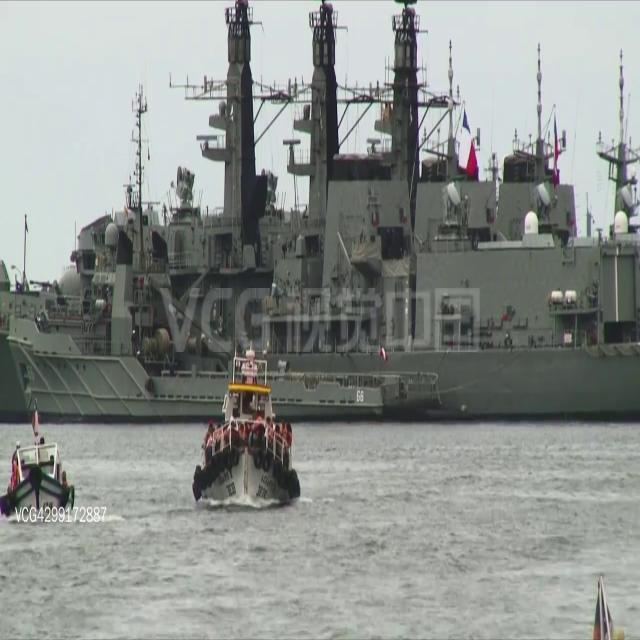houseboat: (193, 353, 300, 519), (0, 386, 76, 524)
navalvessels: (0, 0, 640, 431)
